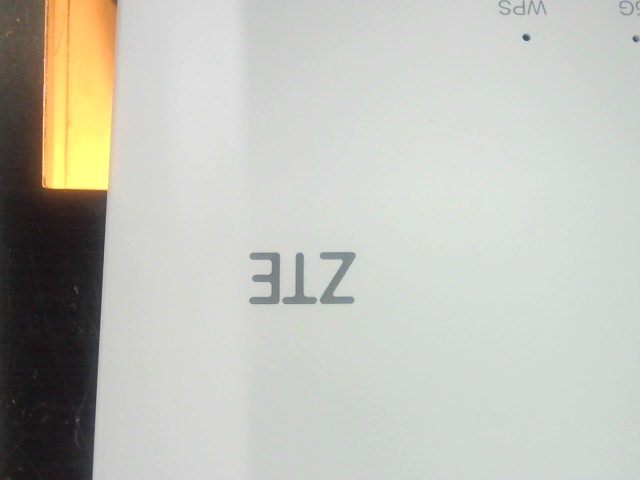AO_ZTESmall: (238, 239, 365, 318)
